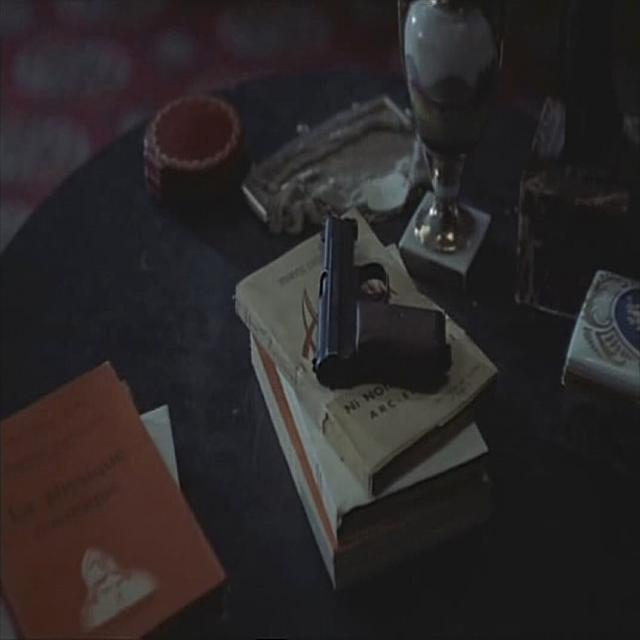gun-knife-thesis - v11 Yolov5 augmented: (313, 205, 451, 398)
